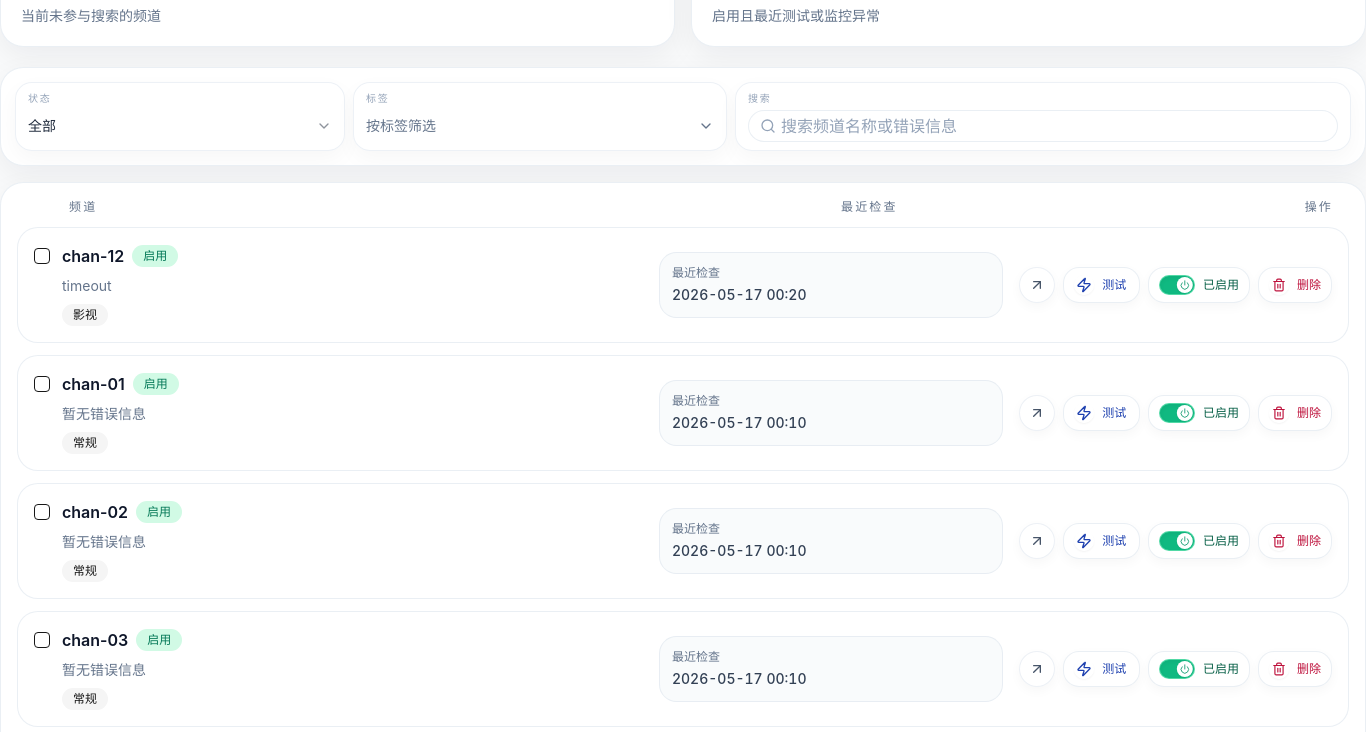
Test: ChannelManagementView › 选择频道后显示批量操作栏
This screenshot has width=1366, height=732.
(page scrolled)
Expected: the heading "chan-01" is shown, [62,372,125,396]
Expected: the button "全选当前筛选" is not shown
What coordinates should you click on to do the following:
click the checkbox named "选择频道 chan-01"
I would click on:
 (42, 384)
Its box is [34,376,50,392].
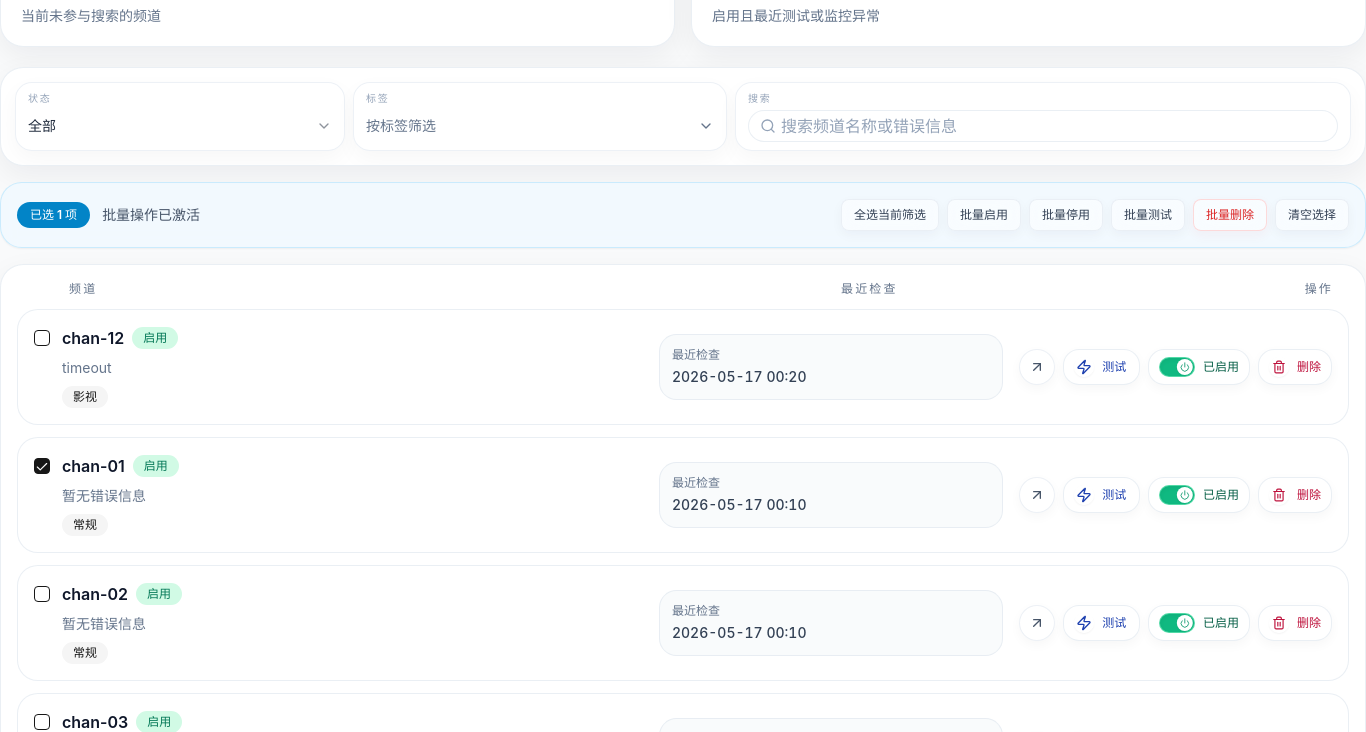
Expected: the element with test id "channel-selection-bar" shows "已选 1 项", [30,207,77,222]
Expected: the button "全选当前筛选" is shown, [841,199,939,231]
Expected: the button "批量启用" is shown, [947,199,1021,231]
